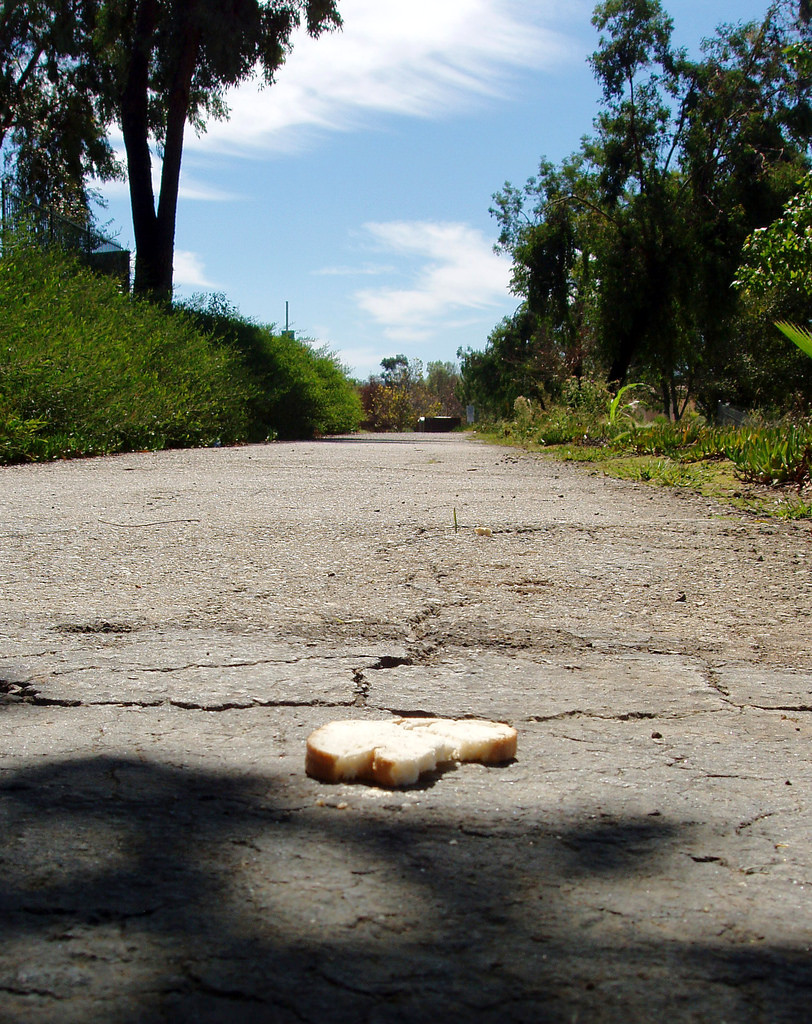slice of bread: (309, 696, 519, 800)
